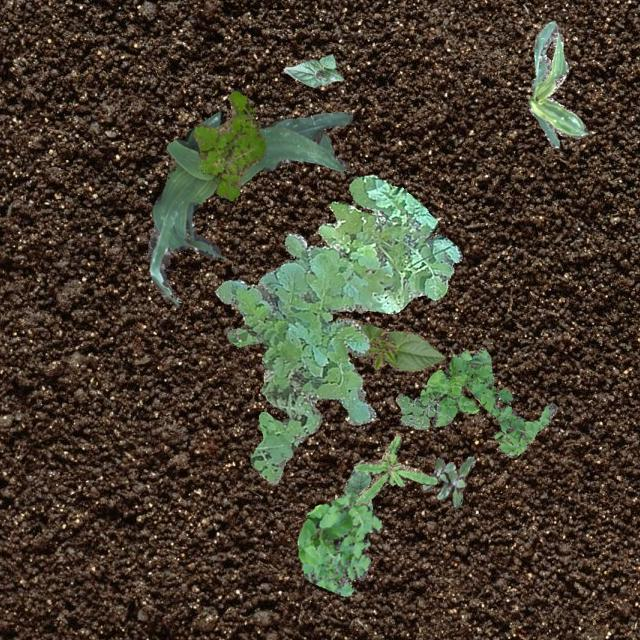crop: (148, 110, 352, 304), (526, 20, 588, 146), (342, 316, 444, 372), (282, 52, 342, 86), (343, 468, 369, 494)
weed: (214, 174, 461, 484), (418, 348, 556, 457), (296, 492, 381, 596), (192, 90, 264, 200), (352, 434, 437, 504), (422, 456, 474, 506), (394, 392, 436, 428)
